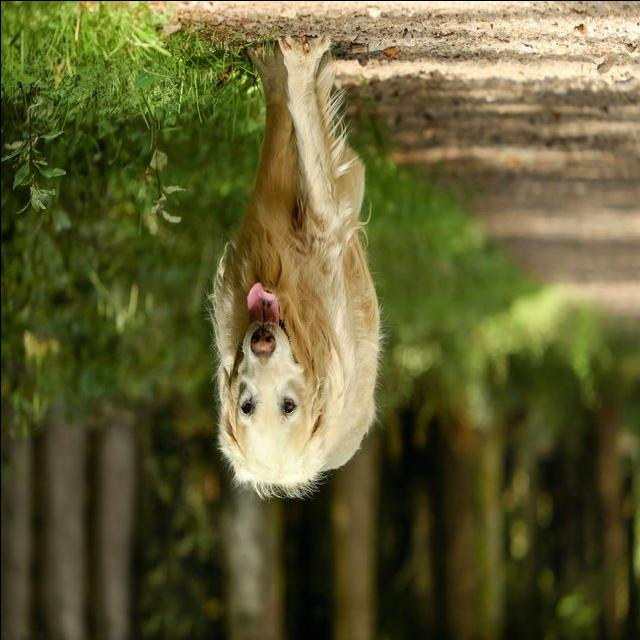retriever: (205, 34, 383, 501)
